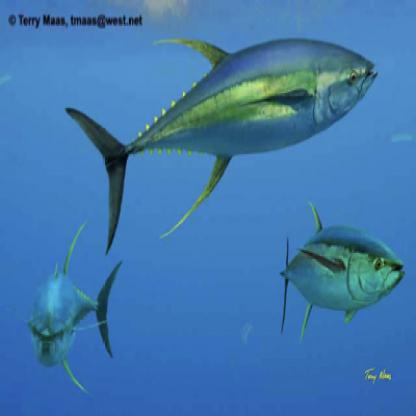Scombridae -Tunas-: (65, 32, 382, 259), (277, 196, 412, 344), (20, 216, 125, 396)
